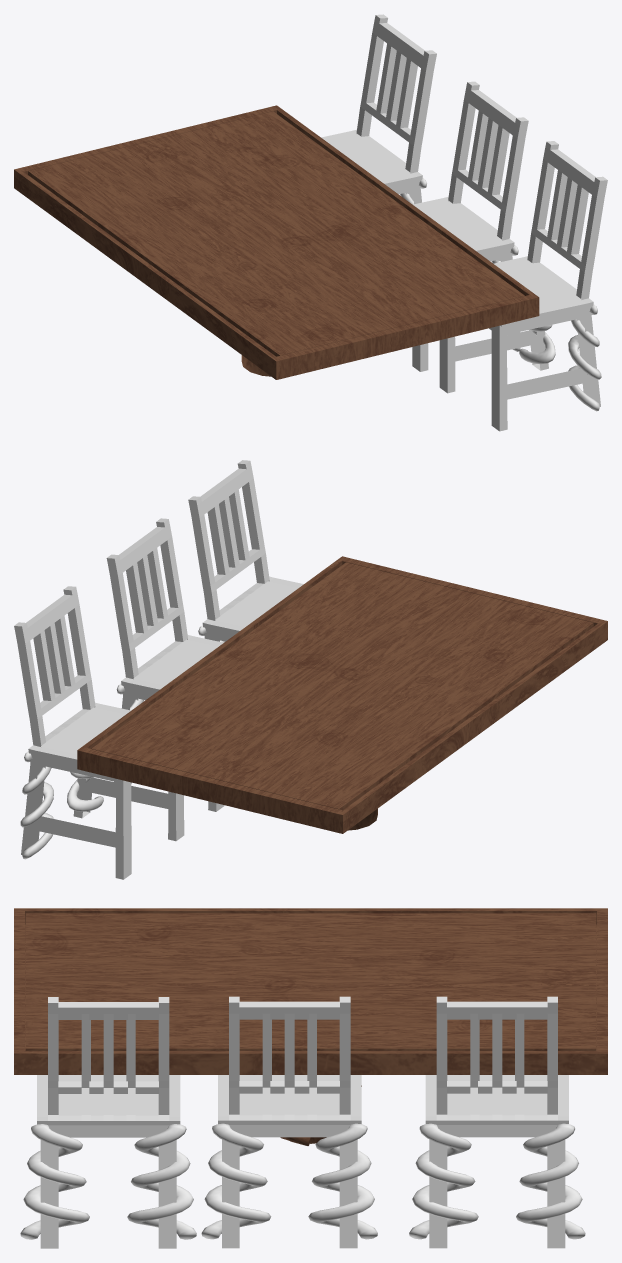
Rendered from Dining Set 1.fbx.
The picture shows the model from 3 angles, top to bottom: view 1: azimuth 30°, elevation 25°; view 2: azimuth 150°, elevation 25°; view 3: azimuth 270°, elevation 25°; orthographic projection. The views are drawn at different scales.
Visible parts, largest first — view 1: Cube.011, Cube.003, Cube.002, Cube.006; view 2: Cube.011, Cube.006, Cube.002, Cube.003; view 3: Cube.011, Cube.006, Cube.002, Cube.003.
Part boxes in pixels (x1=…): Cube.011: x1=14, y1=105, x2=539, y2=379; Cube.003: x1=439, y1=141, x2=607, y2=431; Cube.002: x1=412, y1=81, x2=528, y2=371; Cube.006: x1=321, y1=14, x2=436, y2=204; Cube.011: x1=77, y1=556, x2=607, y2=833; Cube.006: x1=14, y1=586, x2=184, y2=879; Cube.002: x1=106, y1=518, x2=224, y2=811; Cube.003: x1=188, y1=460, x2=303, y2=642; Cube.011: x1=14, y1=908, x2=607, y2=1145; Cube.006: x1=409, y1=996, x2=585, y2=1248; Cube.002: x1=201, y1=996, x2=377, y2=1248; Cube.003: x1=20, y1=997, x2=196, y2=1248.
Size of the model in its own units: 549 by 338 by 717.
